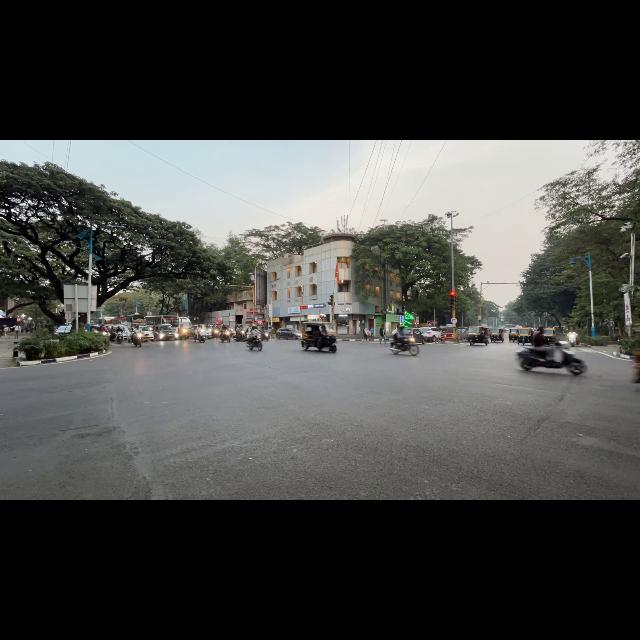bus: (146, 315, 191, 327), (125, 314, 146, 327)
car: (152, 324, 176, 340), (402, 328, 425, 343), (419, 327, 441, 342), (110, 324, 129, 340), (275, 328, 300, 339), (138, 326, 154, 341), (196, 325, 212, 339), (54, 325, 71, 338), (188, 325, 197, 338)
motorcycle: (517, 342, 586, 375), (390, 342, 418, 355), (247, 335, 262, 350), (567, 332, 577, 348), (177, 327, 189, 339), (132, 333, 142, 347), (234, 330, 246, 341), (220, 330, 230, 342), (195, 332, 206, 342), (261, 330, 270, 341), (212, 328, 220, 338), (116, 333, 123, 343)
